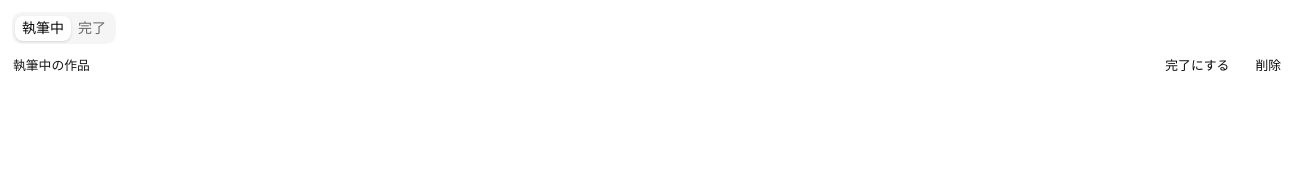
Test: WorkTabs › 「執筆中」に戻すと、執筆中の作品だけを表示する
Click the tab "完了" at point(92, 28), box [71, 16, 113, 40]
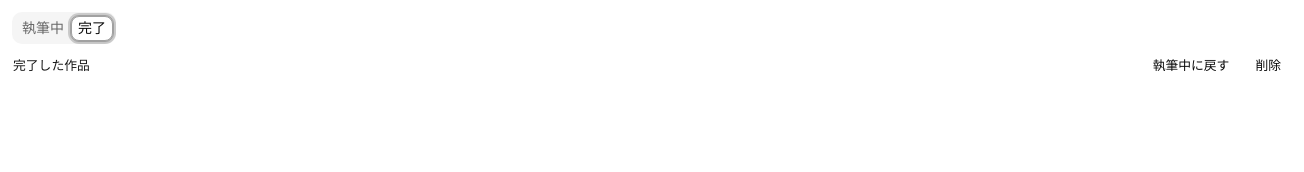
expect the button "完了した作品" is shown: met, box [12, 56, 91, 76]
Click the tab "執筆中" at point(43, 28), box [15, 16, 71, 40]
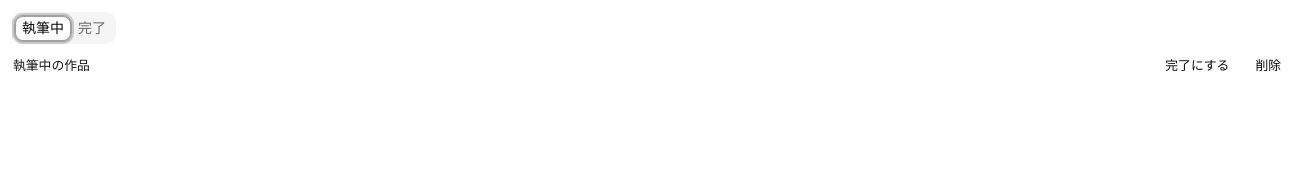
expect the button "執筆中の作品" is shown: met, box [12, 56, 91, 76]
expect the button "完了した作品" is gone: met
